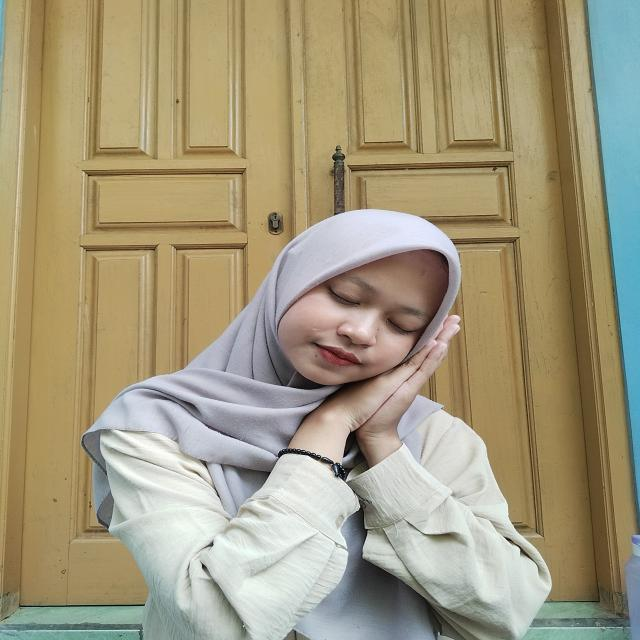tidur: (264, 313, 456, 468)
